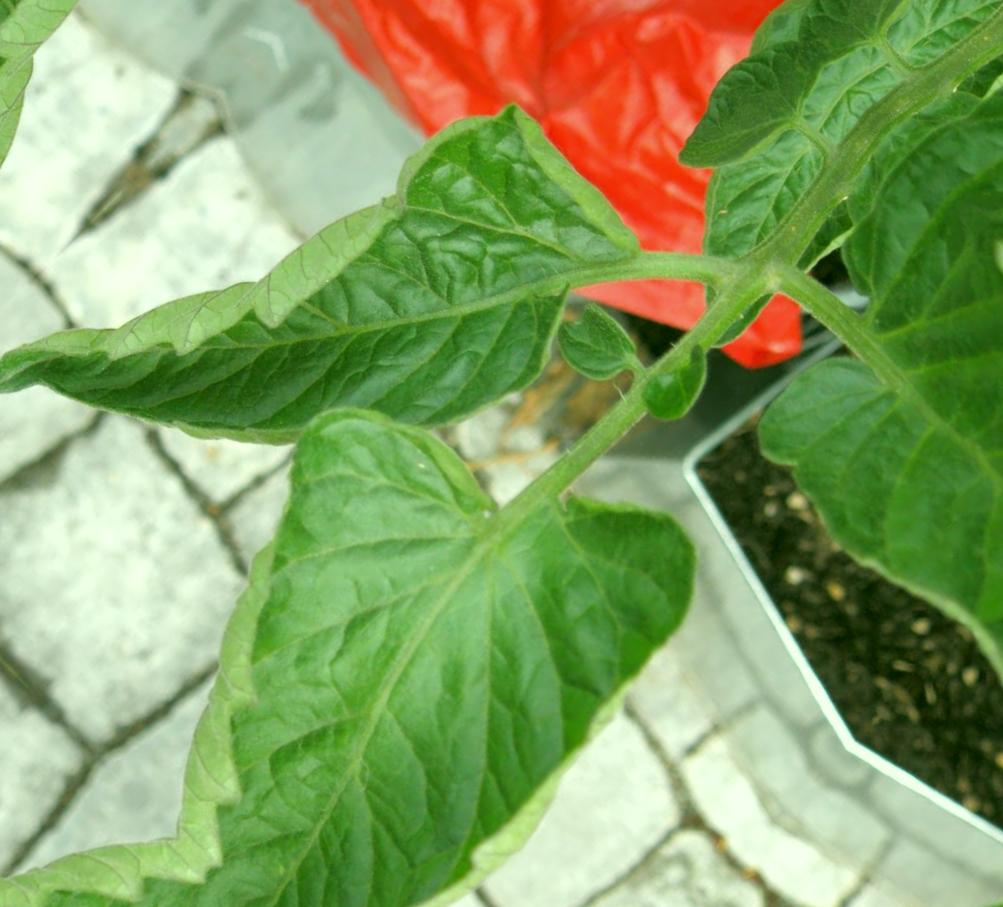Tomato leaf: (0, 0, 689, 673), (35, 287, 754, 907), (667, 148, 1003, 658)
